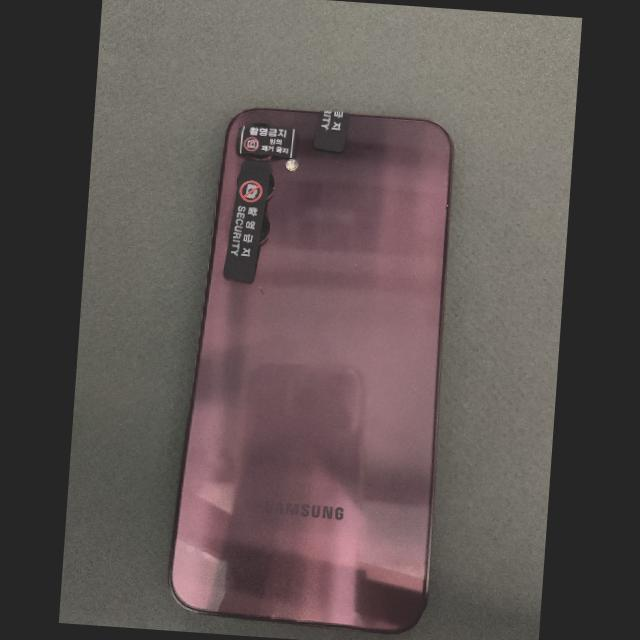lens: (259, 213, 269, 246), (268, 172, 273, 197)
phone: (170, 108, 452, 632)
sticker: (221, 160, 272, 283), (236, 126, 297, 158), (313, 113, 350, 150)
